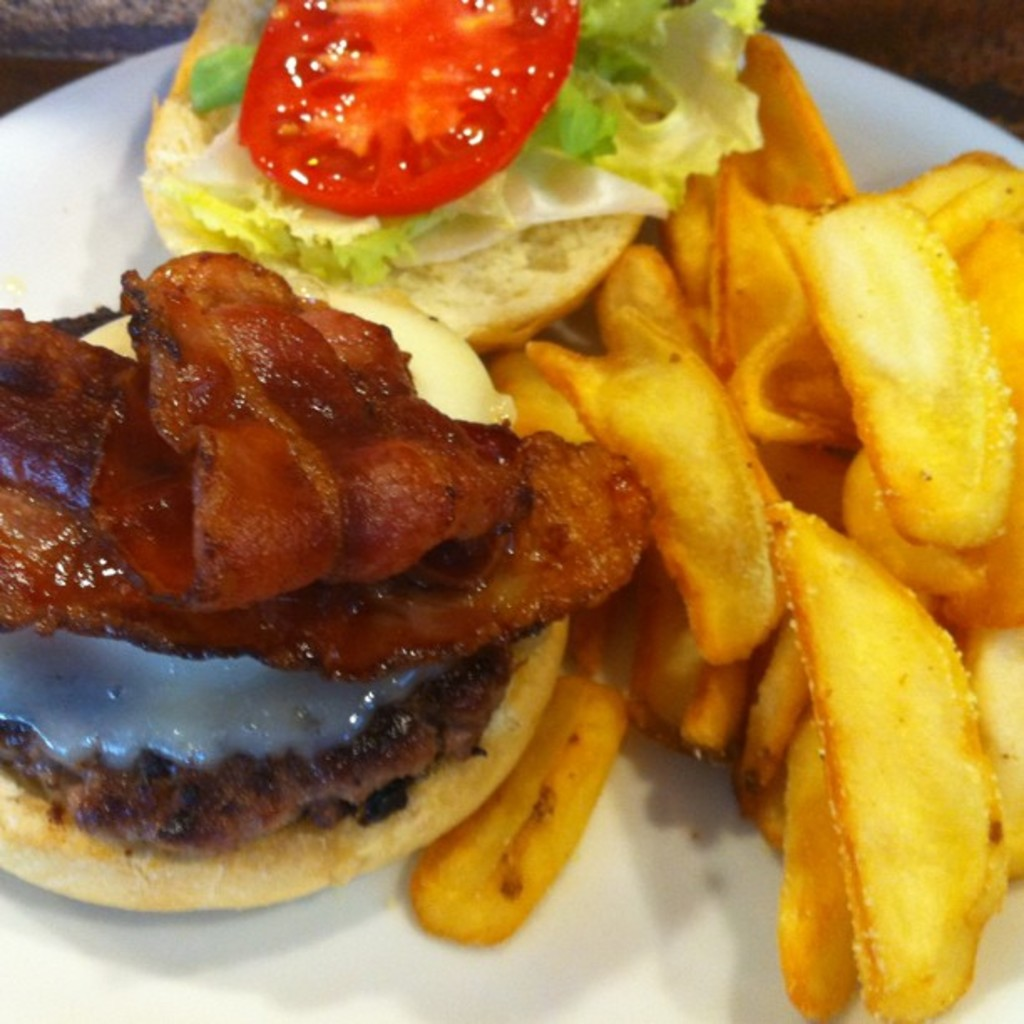French fries: (406, 16, 1022, 1022)
